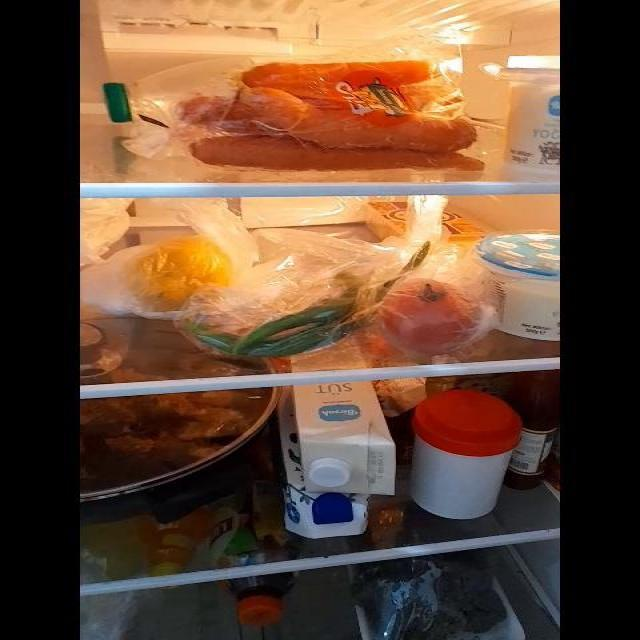broccoli: (357, 565, 506, 637)
carrot: (191, 61, 474, 171)
green chilies: (185, 278, 378, 353)
lemon: (128, 237, 238, 308)
milk: (283, 387, 389, 538)
tomato: (380, 279, 480, 345)
yoghurt: (476, 234, 561, 339)
